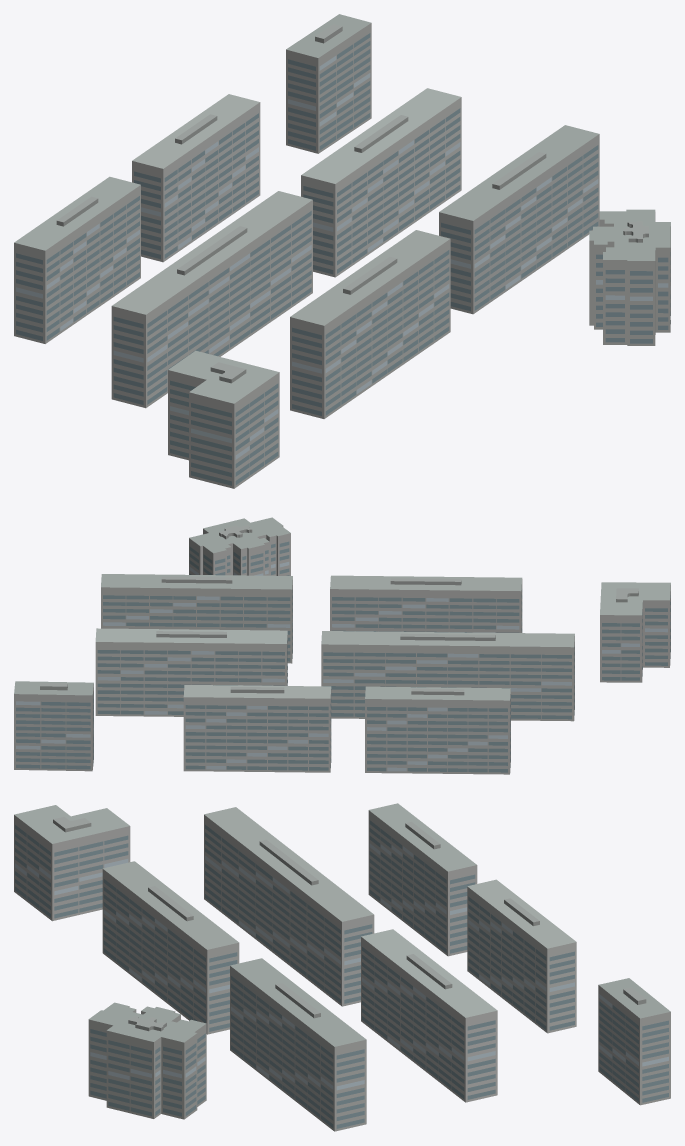
Rendered from apt-a13785005.glb.
The picture shows the model from 3 angles, top to bottom: view 1: azimuth 30°, elevation 25°; view 2: azimuth 150°, elevation 25°; view 3: azimuth 270°, elevation 25°; orthographic projection. The views are drawn at different scales.
Parts seen in each view (by area): view 1: apt-a13785005; view 2: apt-a13785005; view 3: apt-a13785005.
Part boxes in pixels (x1=…): apt-a13785005: x1=14, y1=14, x2=670, y2=488; apt-a13785005: x1=14, y1=517, x2=670, y2=774; apt-a13785005: x1=14, y1=803, x2=670, y2=1131.
Bounding box in the file's own units: 212 × 36 × 236.
